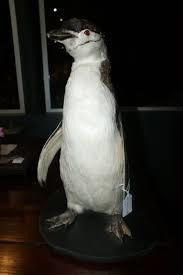chinstrap: (30, 15, 159, 250)
